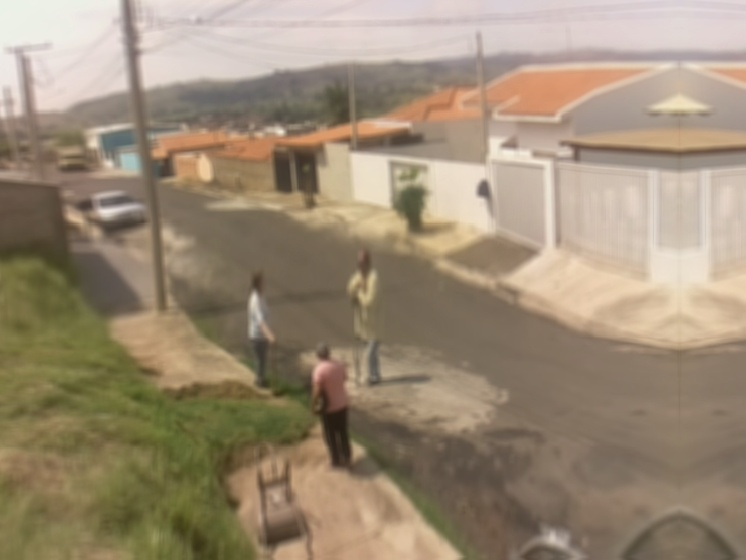person: (309, 342, 353, 471), (347, 248, 384, 388), (248, 269, 275, 390)
